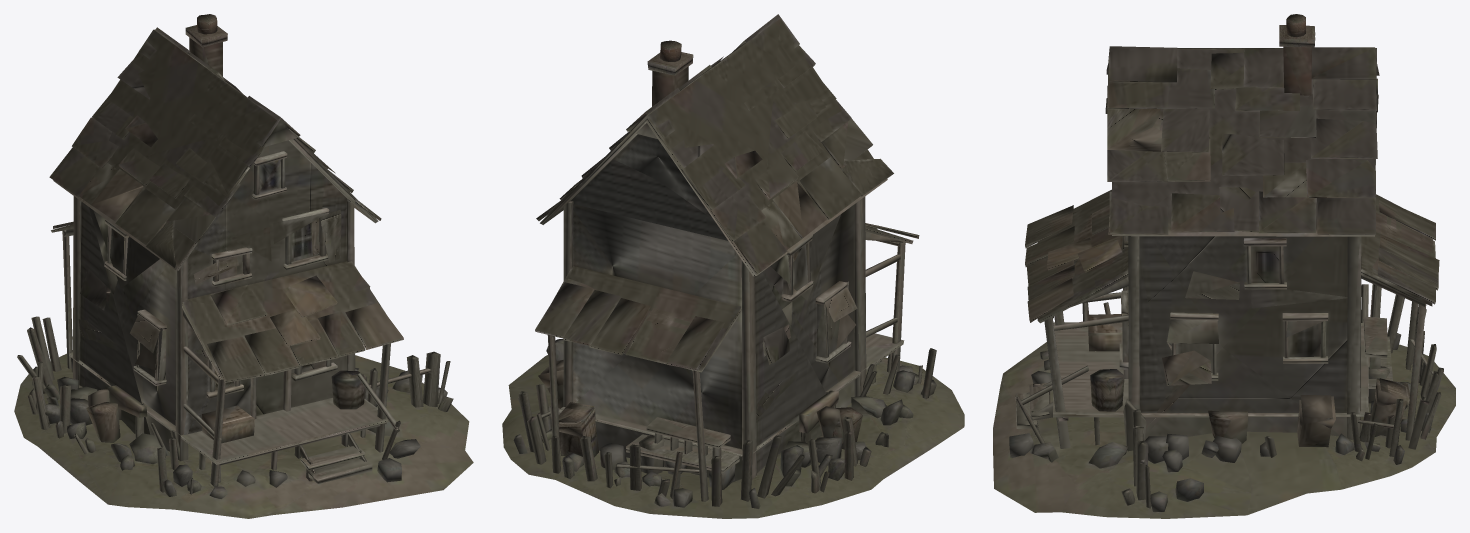
Rendered from pickman_house_1.glb.
3 renders of one model, left to right at view 1: azimuth 30°, elevation 25°; view 2: azimuth 150°, elevation 25°; view 3: azimuth 270°, elevation 25°, orthographic. The views are drawn at different scales.
Parts seen in each view (by area): view 1: PickmanHouse1Mesh; view 2: PickmanHouse1Mesh; view 3: PickmanHouse1Mesh.
Boxes of the visible parts, x1,y1,x2,y2 form: PickmanHouse1Mesh: (14, 14, 473, 518); PickmanHouse1Mesh: (502, 14, 964, 518); PickmanHouse1Mesh: (993, 14, 1455, 518).
Bounding box in the file's own units: 1.95 × 2 × 2.
Materials: 1 (1 with a texture image).
